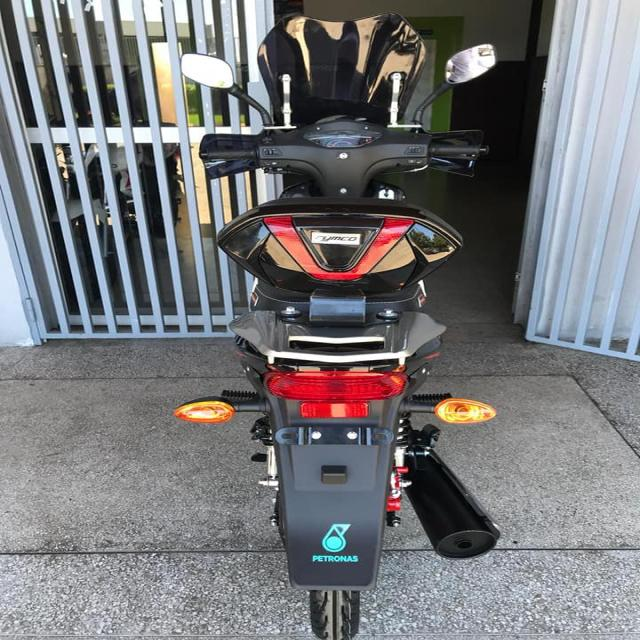Motorcycle: (174, 17, 500, 640)
